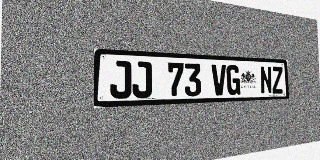3: (184, 63, 201, 96)
7: (167, 62, 184, 97)
G: (226, 65, 240, 95)
J: (110, 60, 131, 99), (132, 61, 152, 98)
N: (260, 66, 272, 94)
V: (211, 64, 226, 96)
Z: (272, 67, 283, 94)
